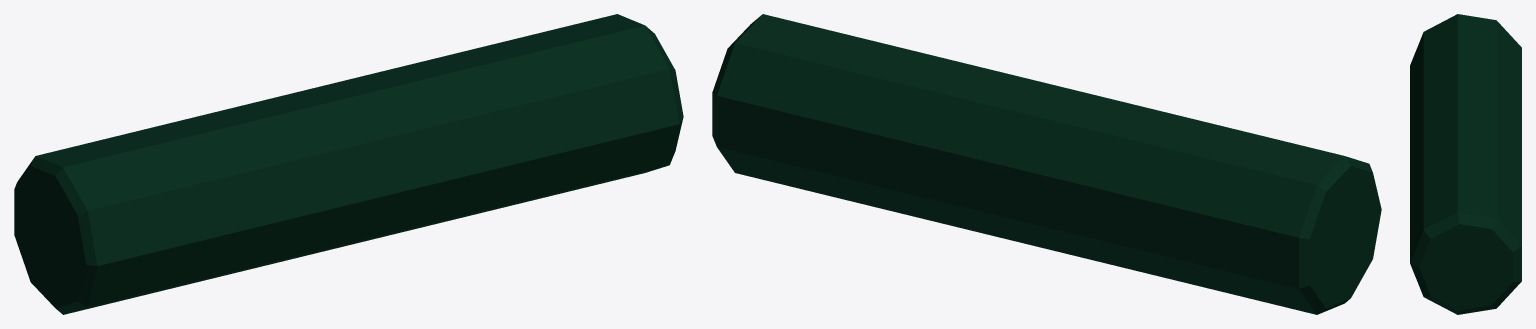
Rendered from chalk_2.fbx.
3 views of the same model, side by side, from view 1: azimuth 30°, elevation 25°; view 2: azimuth 150°, elevation 25°; view 3: azimuth 270°, elevation 25° (orthographic). The views are drawn at different scales.
Parts seen in each view (by area): view 1: chalk_2_export; view 2: chalk_2_export; view 3: chalk_2_export.
Part boxes in pixels (x1=…): chalk_2_export: x1=14, y1=14, x2=683, y2=314; chalk_2_export: x1=712, y1=14, x2=1381, y2=314; chalk_2_export: x1=1410, y1=14, x2=1521, y2=314.
Size of the model in its own units: 14.65 by 3.44 by 3.39.
